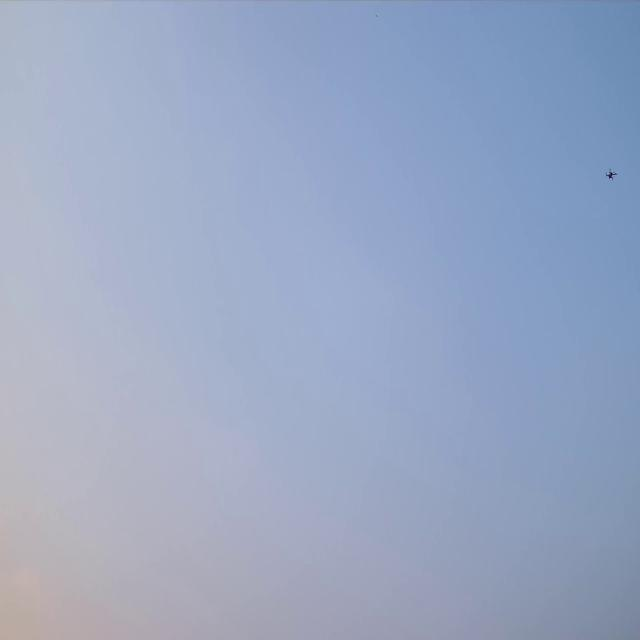UAV: (606, 172, 616, 178)
